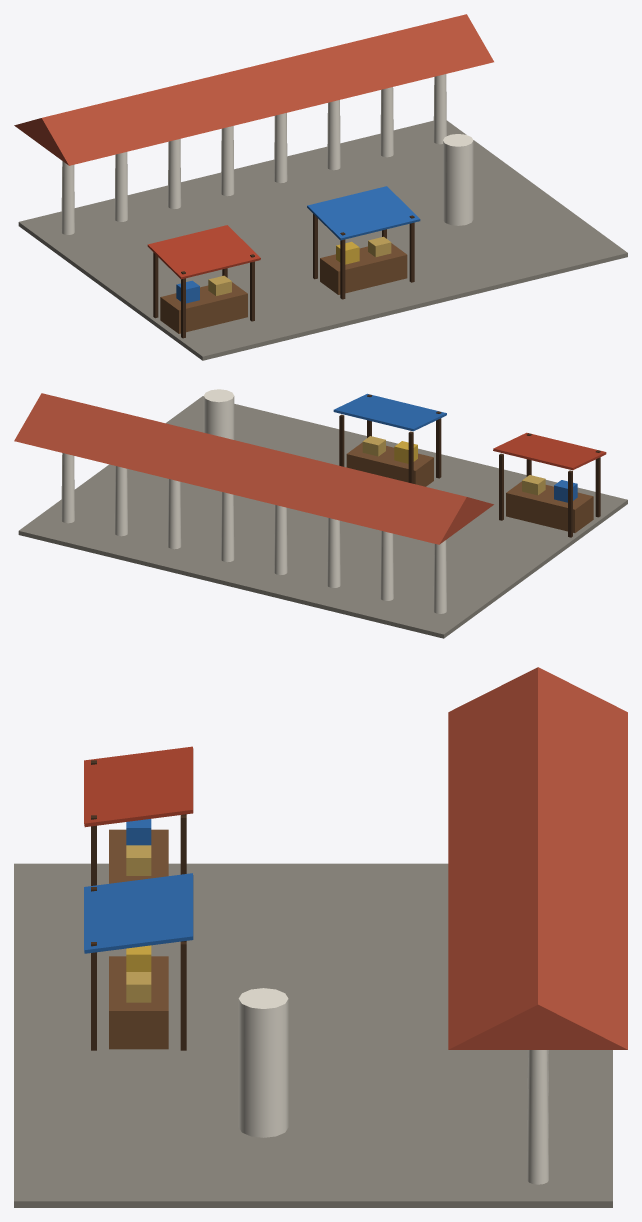
File: market.glb
3 renders of one model, top to bottom at view 1: azimuth 30°, elevation 25°; view 2: azimuth 150°, elevation 25°; view 3: azimuth 270°, elevation 25°, orthographic. The views are drawn at different scales.
Visible parts, largest first — view 1: Market; view 2: Market; view 3: Market.
Boxes of the visible parts, <box> form: Market: <box>14,14,627,360</box>; Market: <box>14,389,627,638</box>; Market: <box>14,667,627,1207</box>.
Size of the model in its own units: 16 by 4.5 by 12.3.
